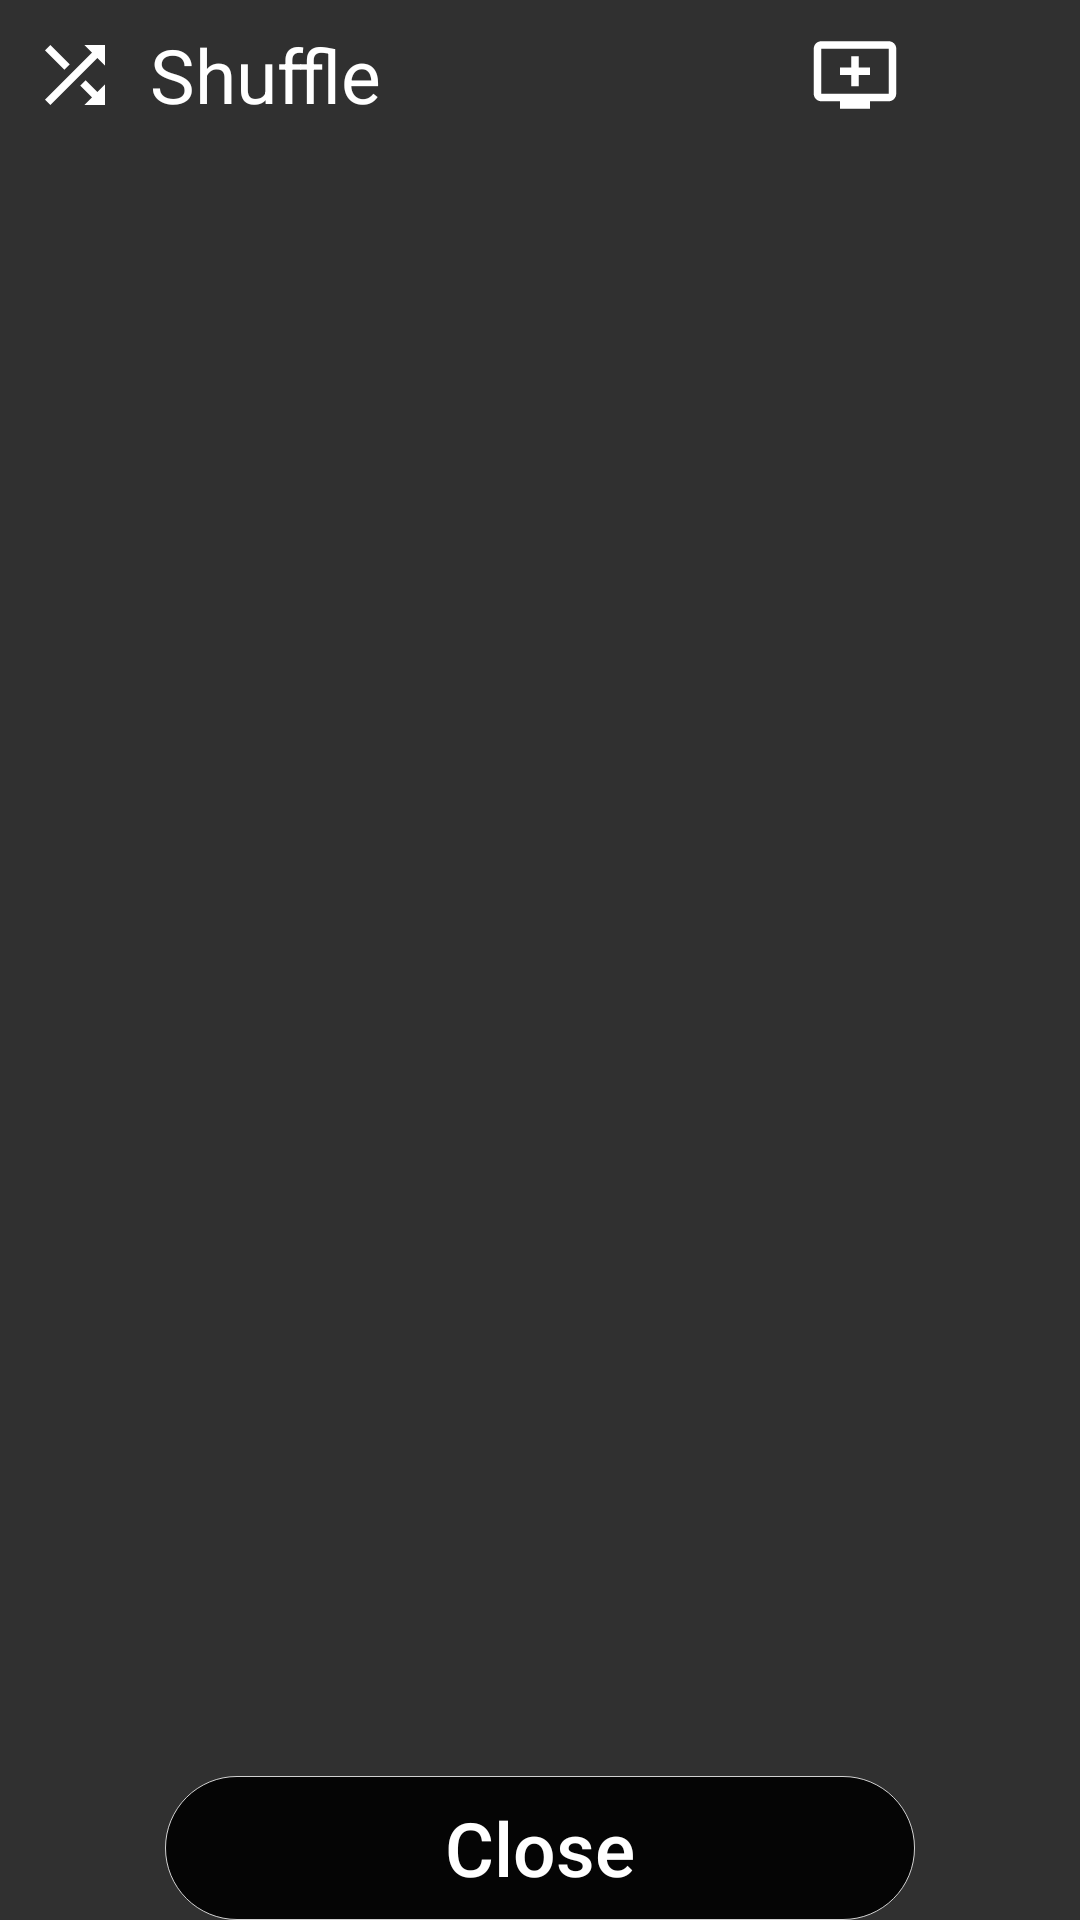

Named icons in this screenshot (1080 x 1920) and their bounding boxes, (x1, y1, x2, y2):
add queue: (813, 41, 897, 109)
